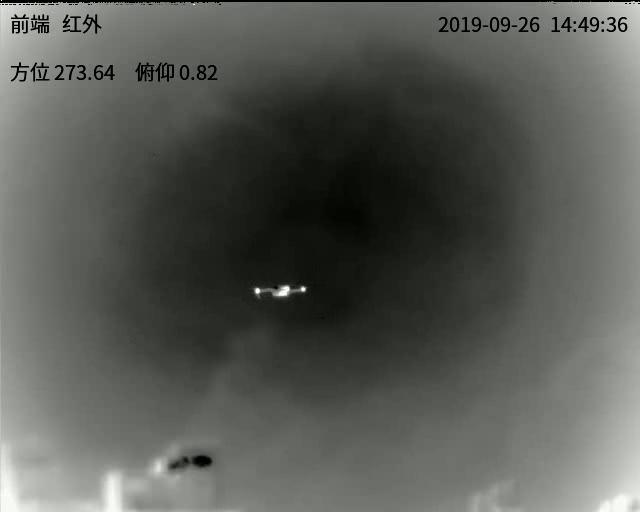DRONE: (251, 283, 307, 299)
